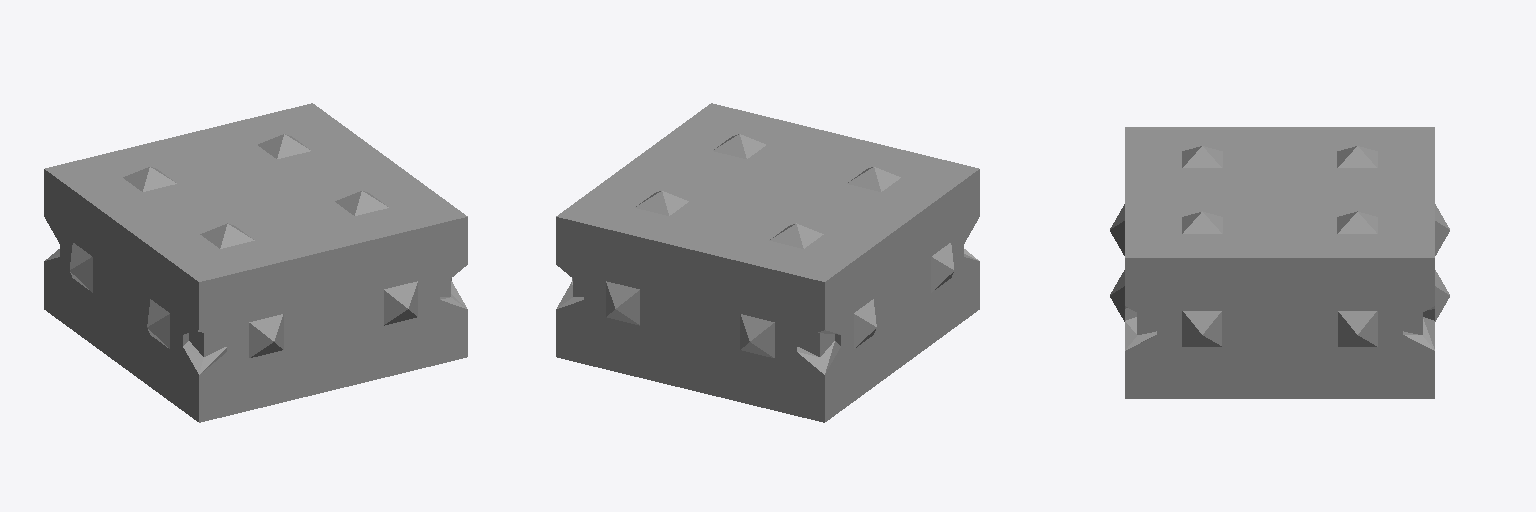
File: RR_Suspension_Base.obj
3 views of the same model, side by side, from view 1: azimuth 30°, elevation 25°; view 2: azimuth 150°, elevation 25°; view 3: azimuth 270°, elevation 25° (orthographic).
Parts seen in each view (by area): view 1: Cube_Cube.002; view 2: Cube_Cube.002; view 3: Cube_Cube.002.
Boxes of the visible parts, <box> form: Cube_Cube.002: <box>44,103,467,422</box>; Cube_Cube.002: <box>556,103,979,422</box>; Cube_Cube.002: <box>1110,127,1449,398</box>.
Size of the model in its own units: 2.2 by 1.1 by 2.2.